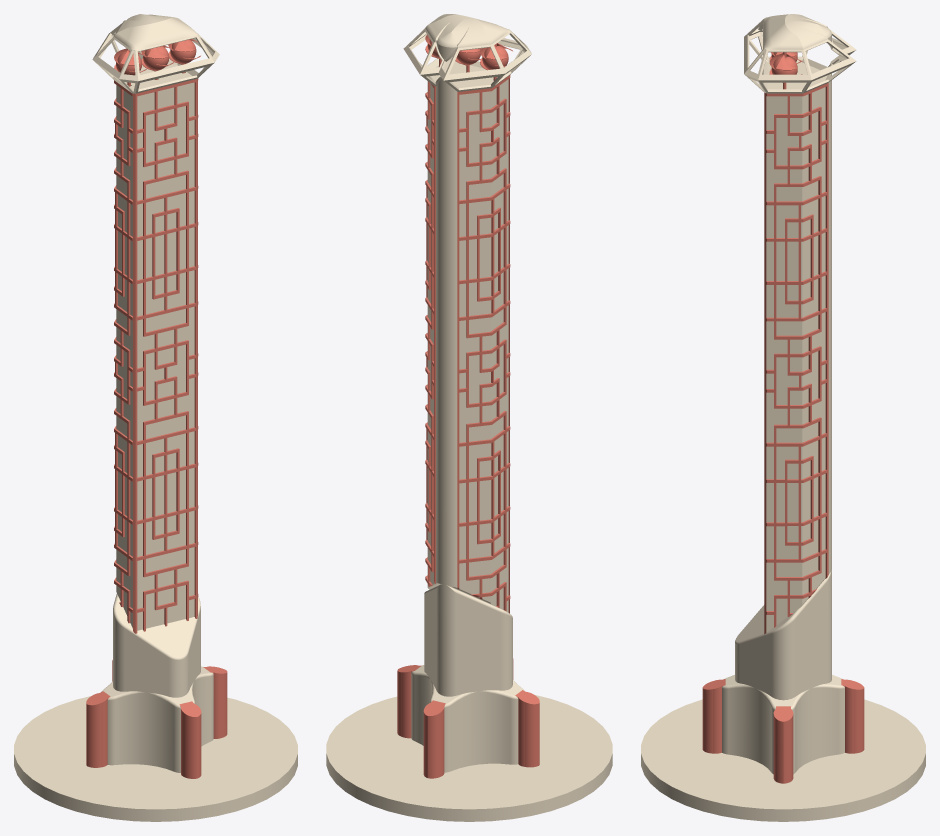
3 views of the same model, side by side, from view 1: azimuth 30°, elevation 25°; view 2: azimuth 150°, elevation 25°; view 3: azimuth 270°, elevation 25° (orthographic).
Visible parts, largest first — view 1: Kev Building Final.001; view 2: Kev Building Final.001; view 3: Kev Building Final.001.
Part boxes in pixels (x1=…): Kev Building Final.001: x1=14, y1=14, x2=297, y2=821; Kev Building Final.001: x1=326, y1=14, x2=612, y2=821; Kev Building Final.001: x1=641, y1=14, x2=925, y2=821.
Bounding box in the file's own units: 10.39 × 29.77 × 10.36.
